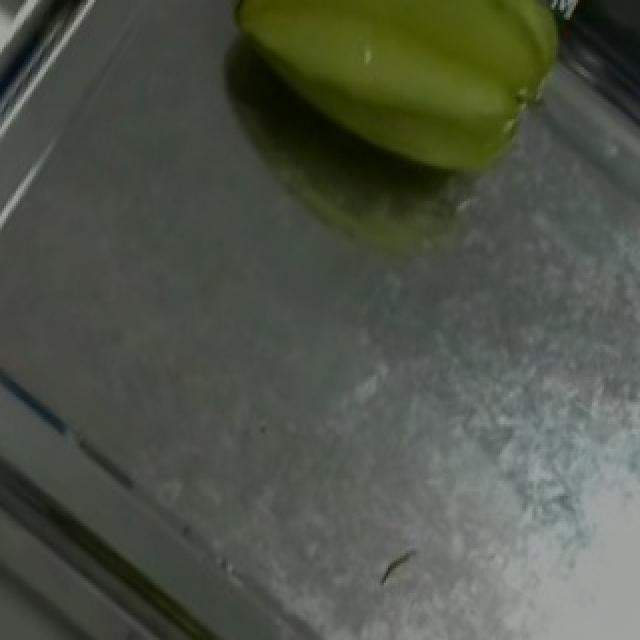fruit: (228, 0, 604, 228)
